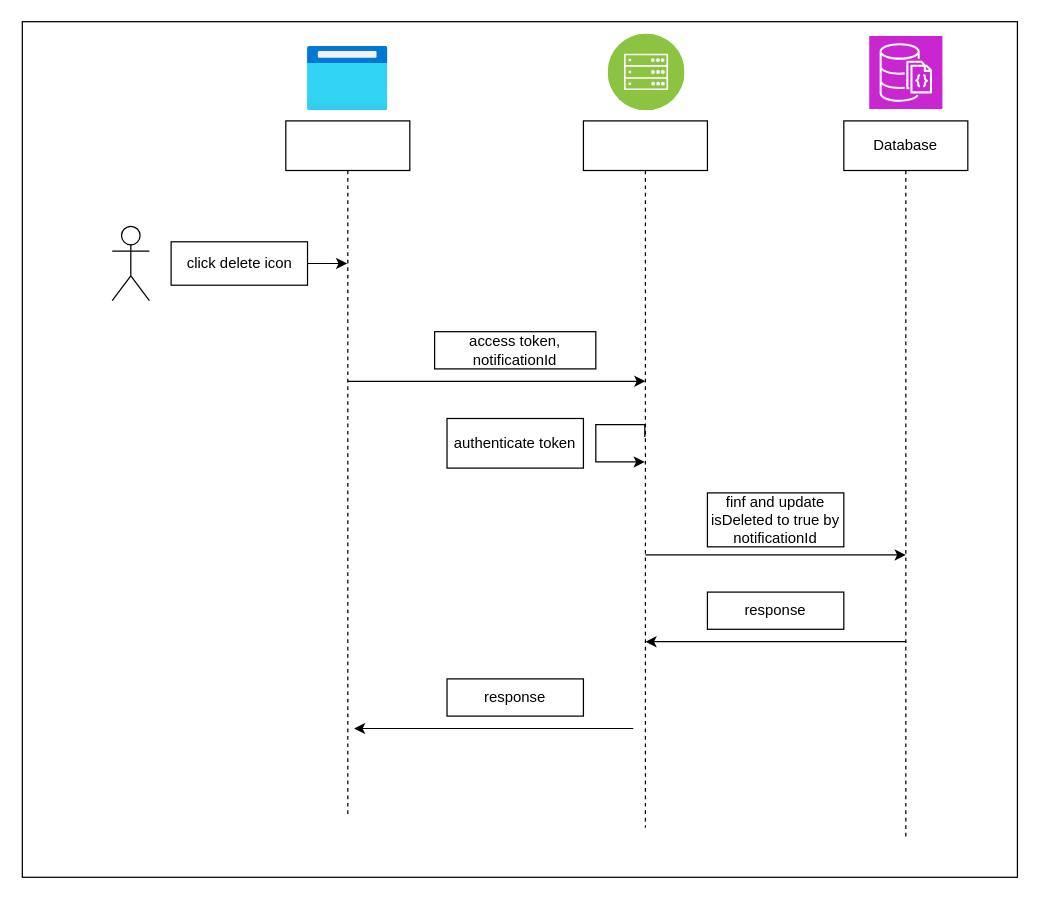
The diagram is 1039 pixels wide and 899 high, and some of its shapes have lost their labels. Here are the shapes that lost their labels. From the top down, the box of each, then its label:
(111, 225, 149, 301): User
(285, 120, 410, 815): Frontend
(582, 120, 707, 828): Backend
